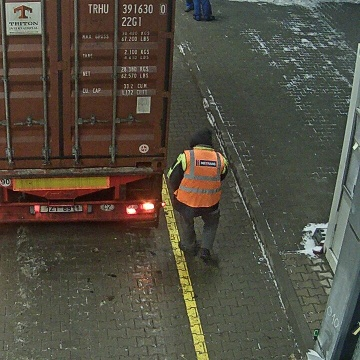serial_id: (88, 4, 166, 13)
